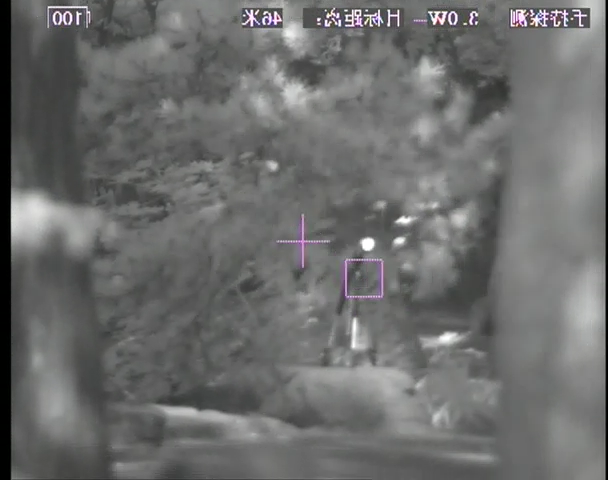my: (359, 236, 375, 252)
